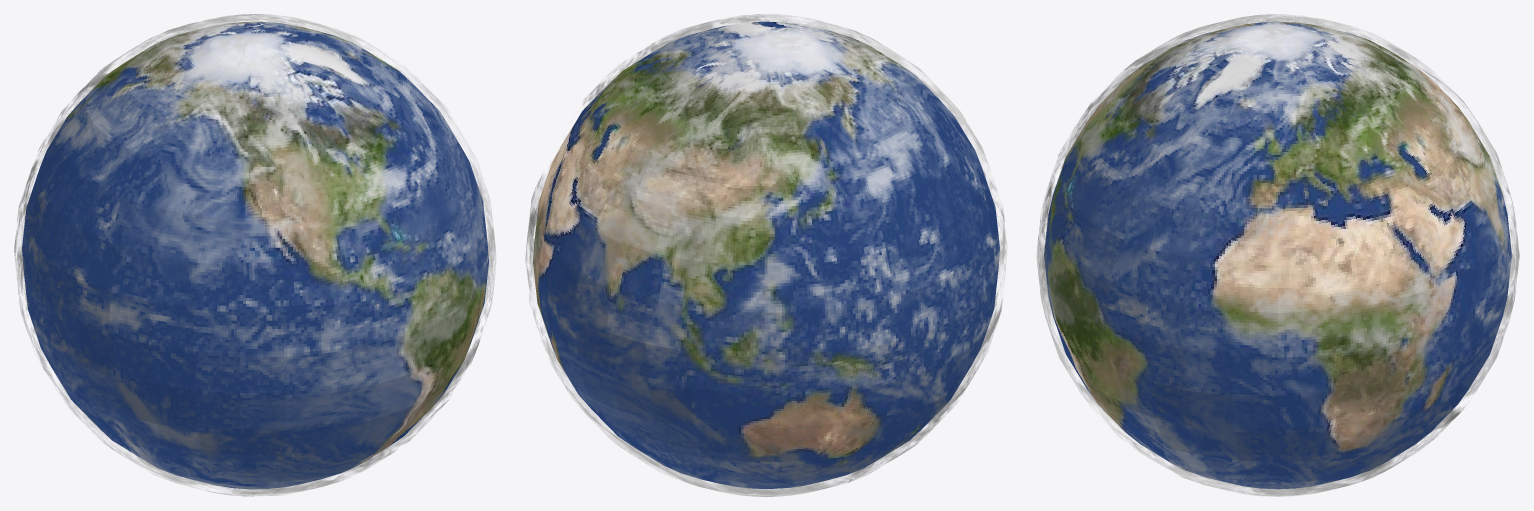
File: earth.glb
The picture shows the model from 3 angles, left to right: view 1: azimuth 30°, elevation 25°; view 2: azimuth 150°, elevation 25°; view 3: azimuth 270°, elevation 25°; orthographic projection.
Visible parts, largest first — view 1: earth, clouds; view 2: earth, clouds; view 3: earth, clouds.
Part boxes in pixels (x1,y1,x2,y2): earth: (22,21,488,489); clouds: (14,14,495,496); earth: (533,21,999,489); clouds: (525,14,1007,496); earth: (1044,21,1511,489); clouds: (1036,14,1519,496).
Bounding box in the file's own units: 14.29 × 14.29 × 14.29.
Materials: 2 (2 with a texture image).
